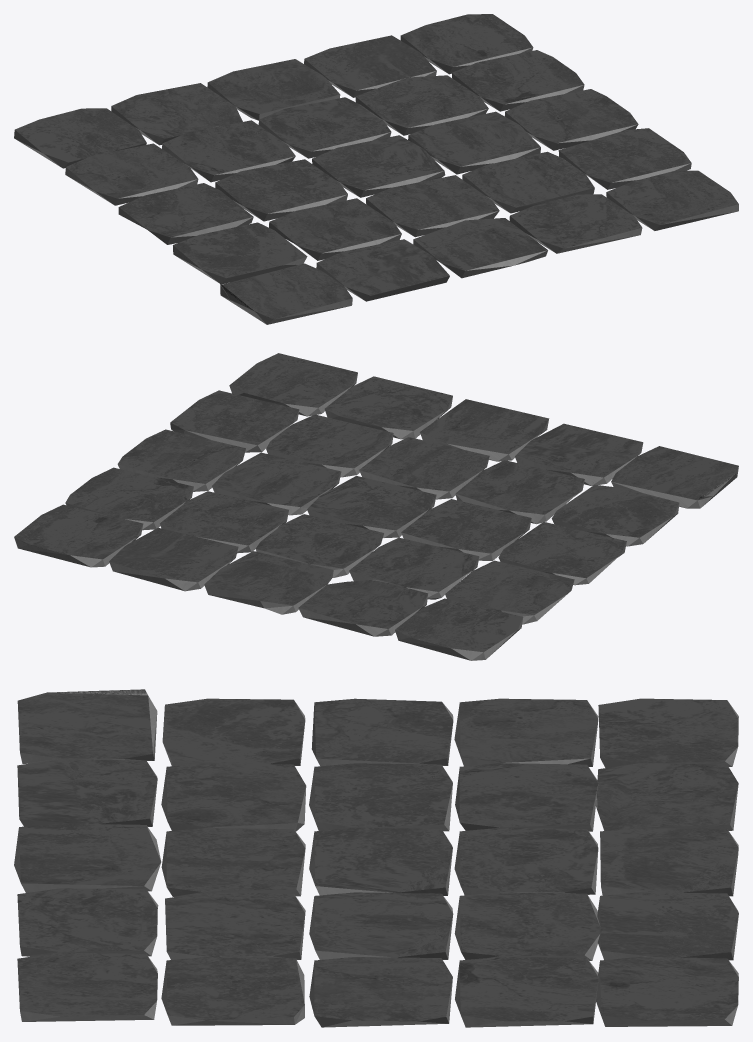
Rendered from ROCK E LOD.fbx.
3 renders of one model, top to bottom at view 1: azimuth 30°, elevation 25°; view 2: azimuth 150°, elevation 25°; view 3: azimuth 270°, elevation 25°, orthographic. The views are drawn at different scales.
Parts seen in each view (by area): view 1: ROCK E LOD; view 2: ROCK E LOD; view 3: ROCK E LOD.
Part boxes in pixels (left/top/right/bottom): ROCK E LOD: left=14, top=14, right=738, bottom=324; ROCK E LOD: left=14, top=353, right=738, bottom=660; ROCK E LOD: left=14, top=689, right=738, bottom=1027.
Bounding box in the file's own units: 4.01 × 0.109 × 3.77.
